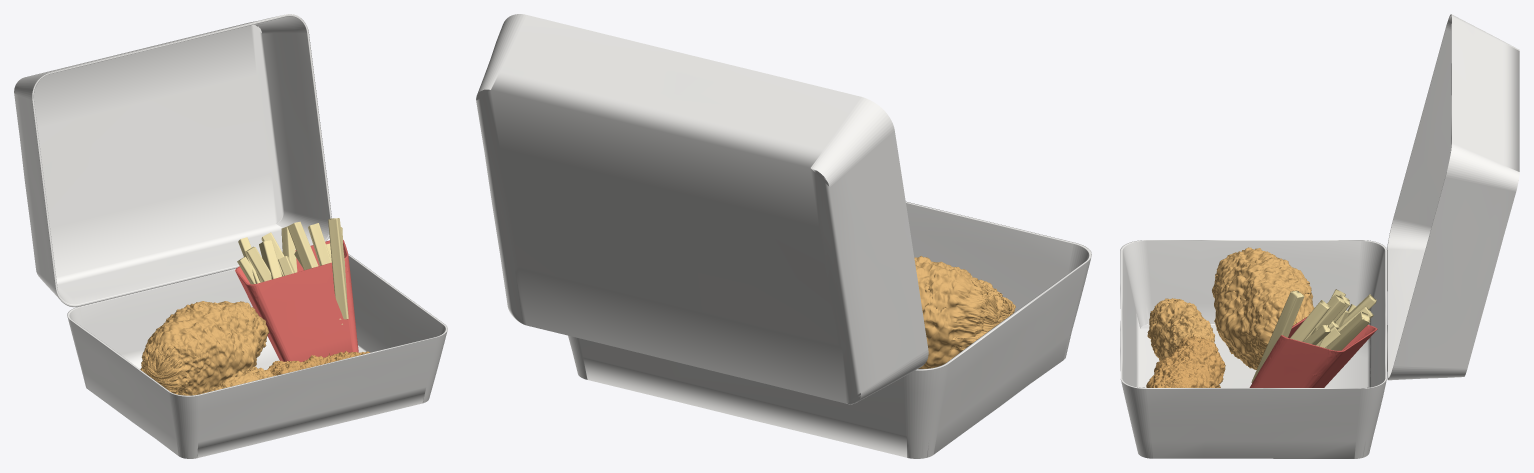
Rendered from meal_box.glb.
3 views of the same model, side by side, from view 1: azimuth 30°, elevation 25°; view 2: azimuth 150°, elevation 25°; view 3: azimuth 270°, elevation 25° (orthographic). The views are drawn at different scales.
Visible parts, largest first — view 1: box_lid, box_base, chicken_thigh, fries_carton, fry_01, chicken_tender, fry_10, chicken_wing, fry_14, fry_12, fry_11; view 2: box_lid, box_base, chicken_thigh; view 3: box_base, box_lid, chicken_thigh, fries_carton, chicken_tender, chicken_wing, fry_01, fry_02, fry_14, fry_10.
Part boxes in pixels (x1=…): box_lid: x1=14, y1=14, x2=331, y2=307; box_base: x1=67, y1=254, x2=447, y2=458; chicken_thigh: x1=140, y1=301, x2=269, y2=395; fries_carton: x1=235, y1=240, x2=358, y2=362; fry_01: x1=328, y1=218, x2=348, y2=319; chicken_tender: x1=267, y1=351, x2=369, y2=375; fry_10: x1=287, y1=221, x2=318, y2=270; chicken_wing: x1=201, y1=366, x2=273, y2=393; fry_14: x1=308, y1=223, x2=341, y2=319; fry_12: x1=259, y1=240, x2=282, y2=279; fry_11: x1=245, y1=246, x2=271, y2=282; box_lid: x1=476, y1=14, x2=928, y2=404; box_base: x1=568, y1=201, x2=1091, y2=458; chicken_thigh: x1=914, y1=256, x2=998, y2=368; box_base: x1=1120, y1=240, x2=1387, y2=458; box_lid: x1=1387, y1=14, x2=1519, y2=380; chicken_thigh: x1=1212, y1=247, x2=1314, y2=369; fries_carton: x1=1249, y1=317, x2=1377, y2=387; chicken_tender: x1=1146, y1=336, x2=1225, y2=387; chicken_wing: x1=1147, y1=298, x2=1215, y2=361; fry_01: x1=1251, y1=290, x2=1304, y2=382; fry_02: x1=1326, y1=311, x2=1370, y2=350; fry_14: x1=1290, y1=300, x2=1330, y2=341; fry_10: x1=1304, y1=294, x2=1346, y2=340.
Size of the model in its own units: 0.2563 by 0.2615 by 0.2903.
